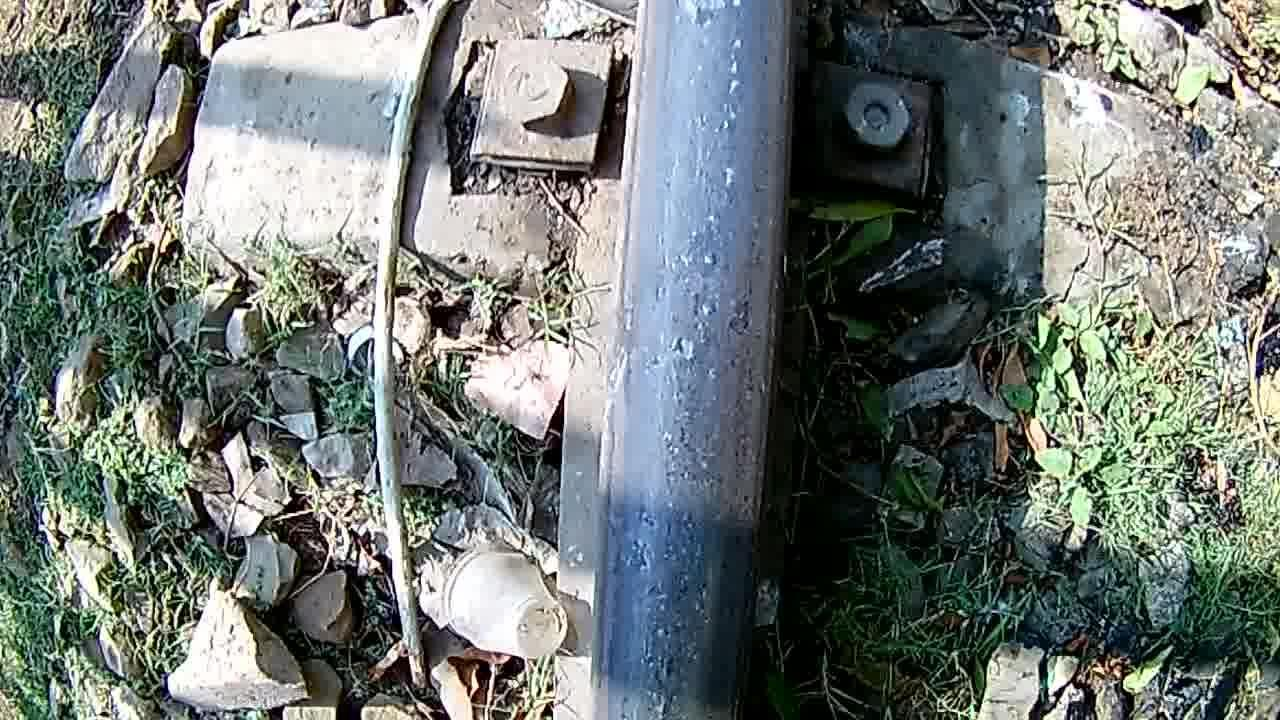crack: (589, 5, 794, 720)
